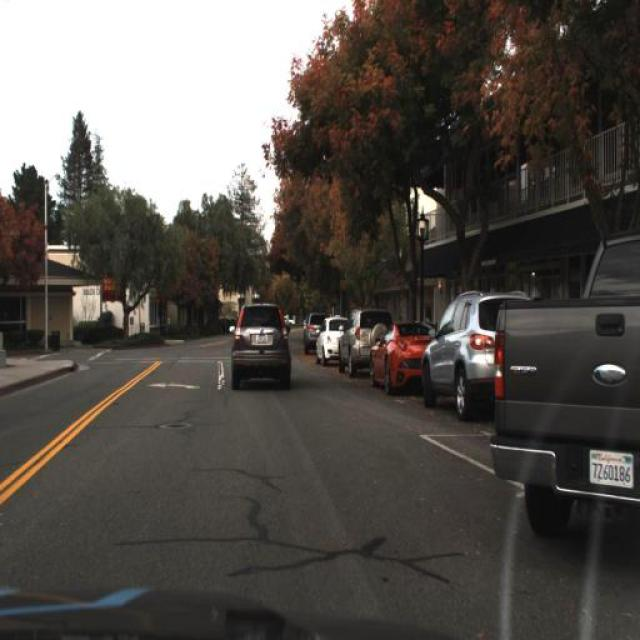car: (490, 225, 640, 540), (415, 285, 537, 430), (226, 296, 294, 400), (369, 318, 438, 394), (335, 305, 396, 374), (310, 310, 352, 366)
